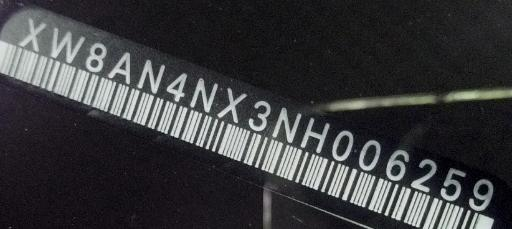letter: (50, 26, 86, 64), (188, 76, 220, 113), (216, 86, 248, 123), (271, 106, 303, 143), (300, 115, 330, 153), (136, 58, 166, 95), (438, 165, 468, 202), (18, 15, 48, 52), (409, 156, 437, 192), (468, 176, 494, 212), (106, 50, 132, 85), (356, 137, 382, 172), (384, 147, 410, 181), (246, 98, 272, 131), (164, 70, 188, 103), (330, 128, 354, 161), (84, 40, 108, 73)
